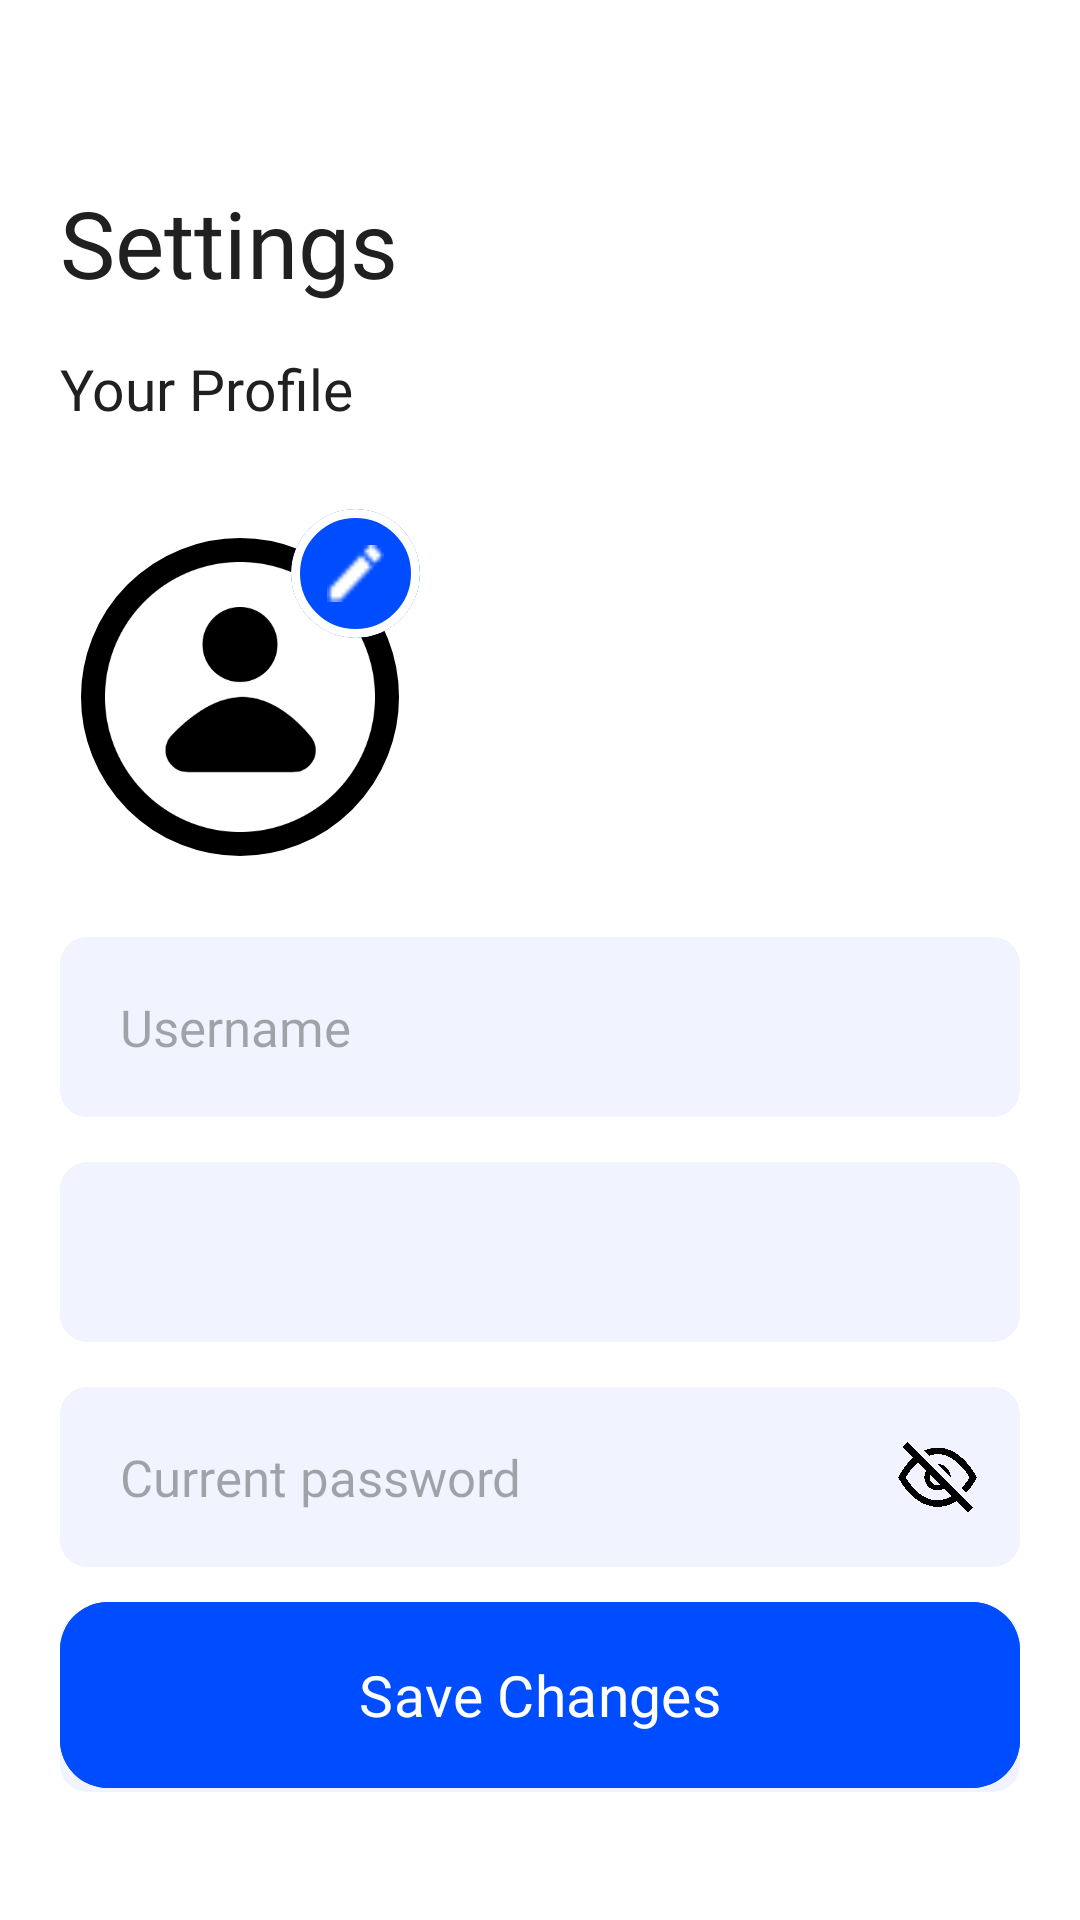

Screen size 1080px x 1920px. Icon name, then its center in pixels as (x,y):
invisibleicon: (937,1477)
